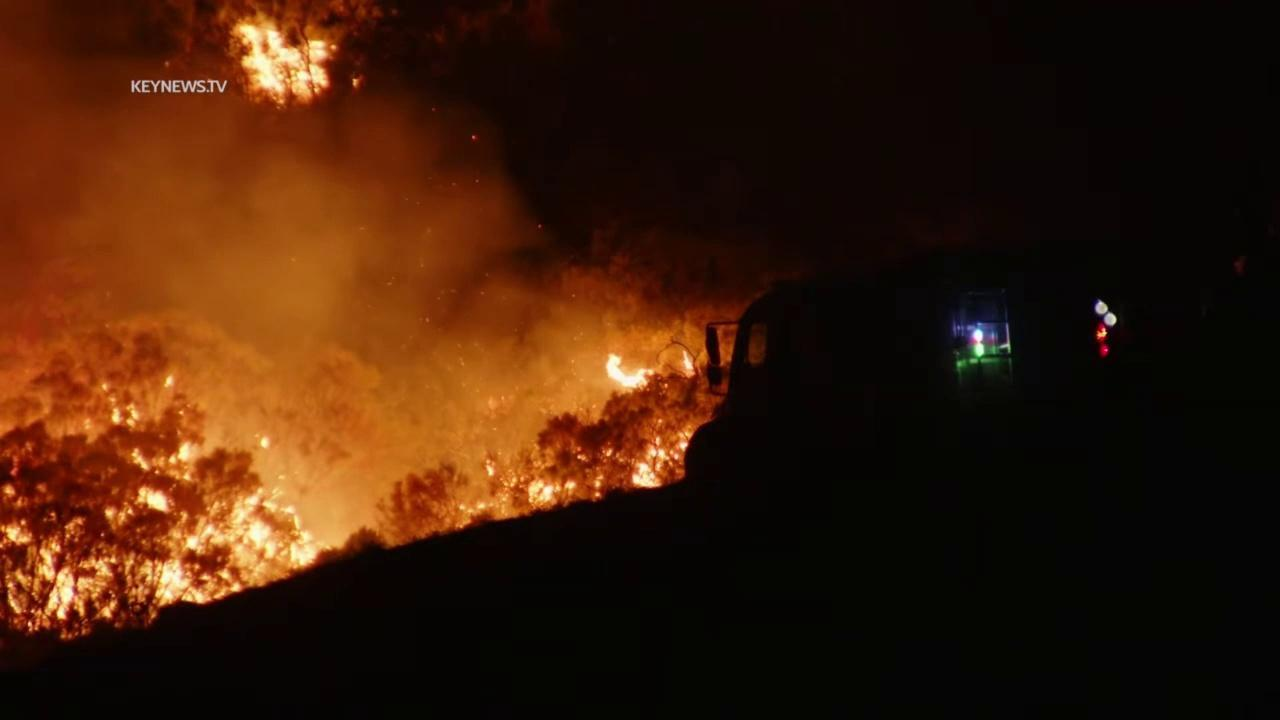fire: (0, 374, 326, 640), (229, 10, 342, 114), (457, 457, 578, 527), (628, 416, 694, 490), (605, 349, 655, 392), (678, 348, 700, 375), (592, 472, 608, 498), (600, 445, 615, 461)
smoke: (0, 0, 626, 549)
